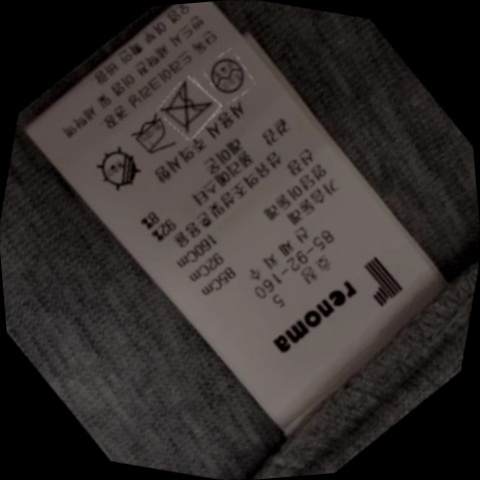DN_wash: (156, 77, 223, 138)
dry_clean_petrol_only: (203, 48, 256, 101)
iron_low: (123, 109, 182, 165)
line_dry_in_shade: (90, 141, 154, 199)
